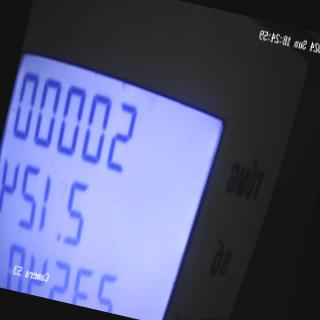screen: (0, 43, 238, 320)
